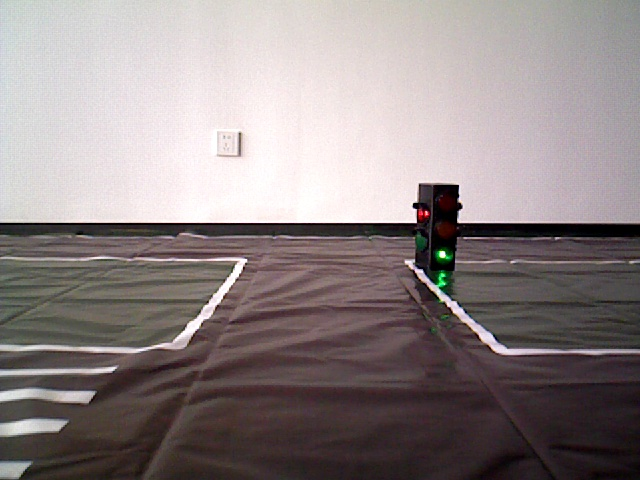green: (414, 183, 454, 263)
